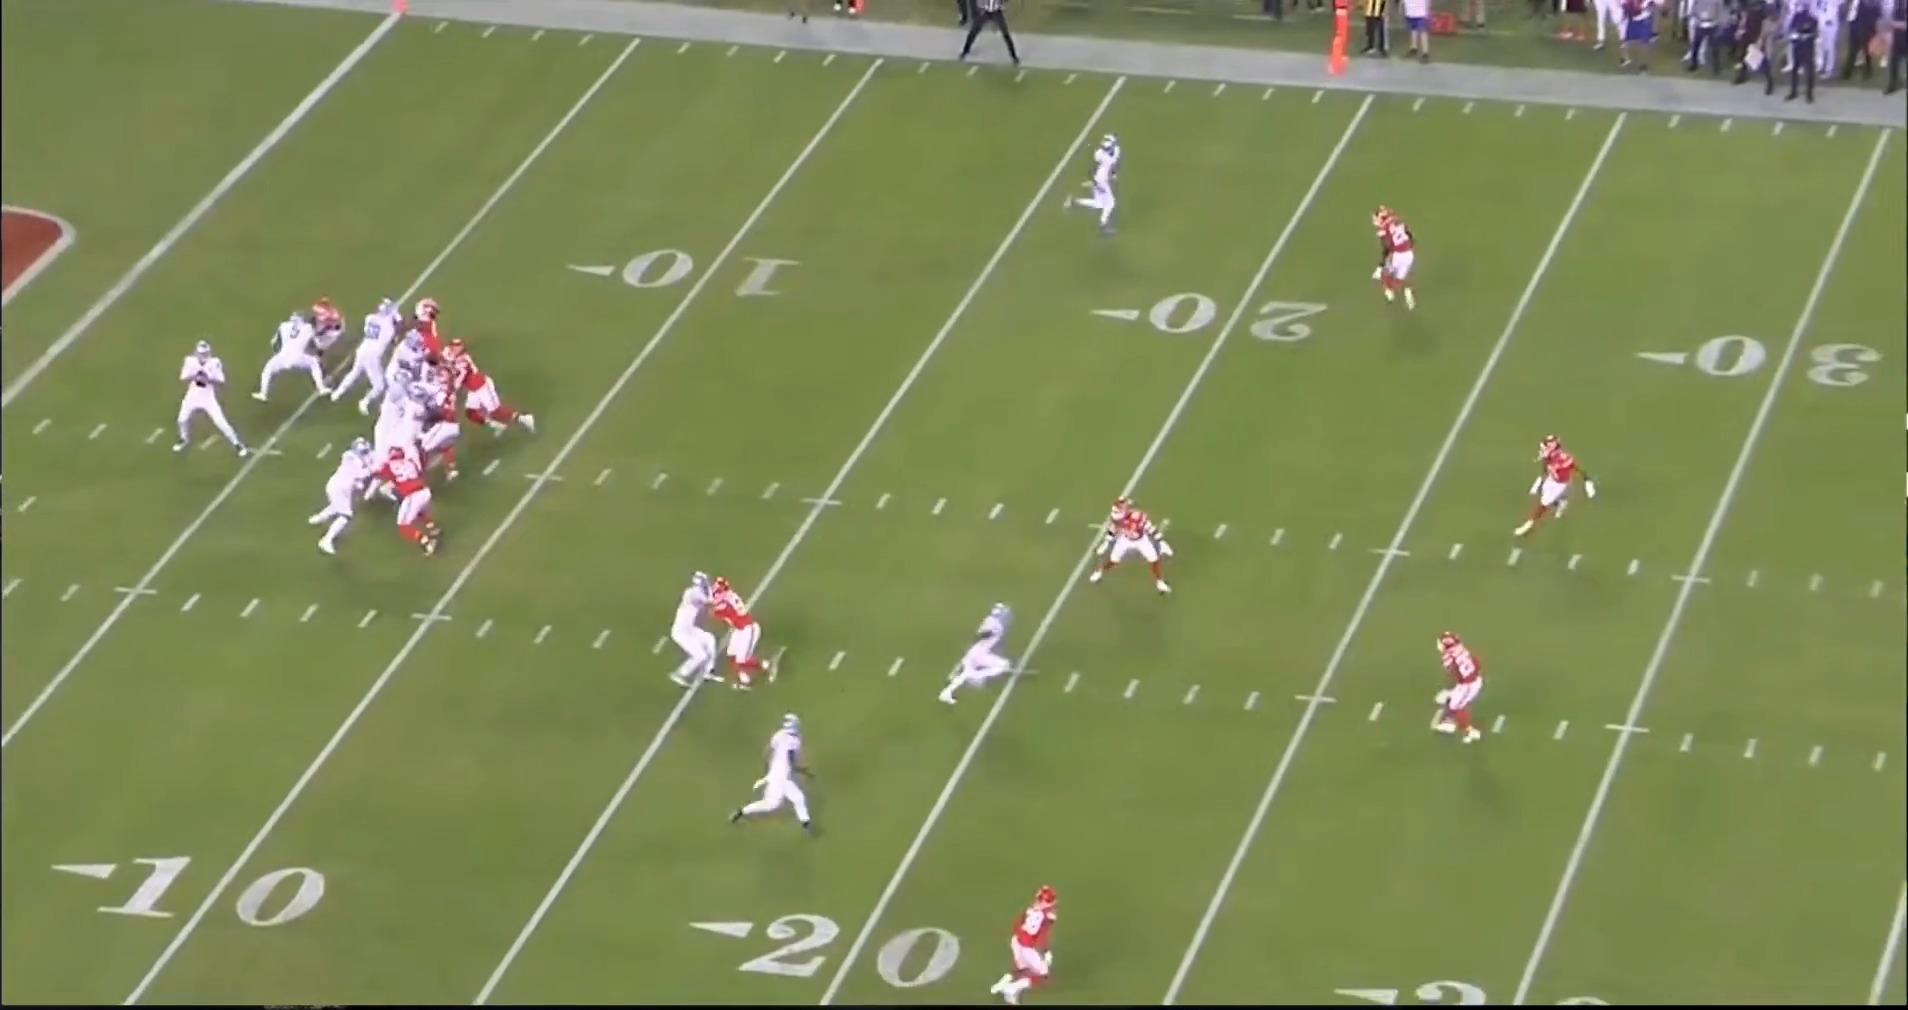defense: (1508, 429, 1595, 542), (991, 882, 1068, 1007), (448, 337, 541, 437), (375, 452, 452, 562), (703, 573, 774, 688), (1423, 630, 1487, 749), (1088, 495, 1162, 592), (1377, 199, 1431, 311), (420, 372, 471, 487), (308, 295, 352, 391), (408, 294, 449, 364)
oline: (323, 304, 405, 424), (308, 442, 389, 561), (363, 328, 430, 420), (384, 377, 438, 477), (375, 367, 414, 443)
qb: (172, 341, 259, 461)
ref: (957, 0, 1030, 62)
skill: (731, 715, 818, 847), (255, 306, 351, 410), (936, 603, 1023, 713), (673, 572, 734, 693), (1071, 131, 1133, 241)
